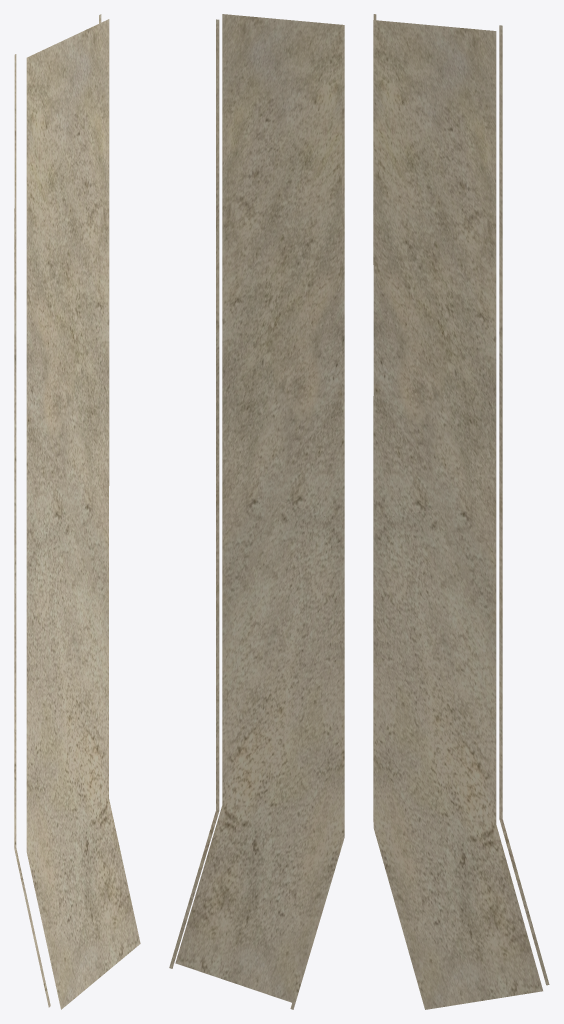
Rendered from concrete_31.fbx.
3 views of the same model, side by side, from view 1: azimuth 30°, elevation 25°; view 2: azimuth 150°, elevation 25°; view 3: azimuth 330°, elevation 25° (orthographic).
Visible parts, largest first — view 1: concrete_31; view 2: concrete_31; view 3: concrete_31.
Boxes of the visible parts, x1,y1,x2,y2 form: concrete_31: [14, 14, 140, 1009]; concrete_31: [169, 14, 344, 1009]; concrete_31: [373, 14, 549, 1009].
Bounding box in the file's own units: 392 × 2475 × 155.
